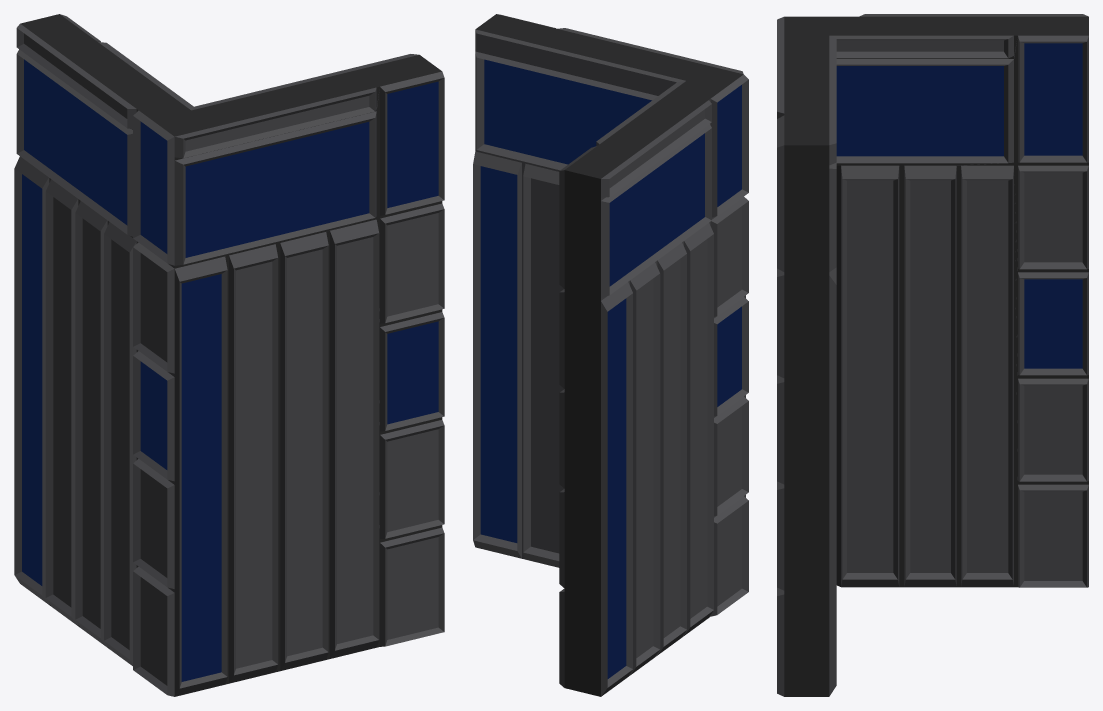
Rendered from CyberpunkCorner.glb.
The picture shows the model from 3 angles, left to right: view 1: azimuth 30°, elevation 25°; view 2: azimuth 150°, elevation 25°; view 3: azimuth 270°, elevation 25°; orthographic projection. The views are drawn at different scales.
Parts seen in each view (by area): view 1: wall_futuristic_corner; view 2: wall_futuristic_corner; view 3: wall_futuristic_corner.
Boxes of the visible parts, x1=… form: wall_futuristic_corner: x1=14, y1=14, x2=444, y2=696; wall_futuristic_corner: x1=473, y1=14, x2=748, y2=696; wall_futuristic_corner: x1=777, y1=14, x2=1088, y2=696.
Size of what is drawn, in the model's own units: 2.05 by 4 by 2.05.
2 materials, 2 textured.
